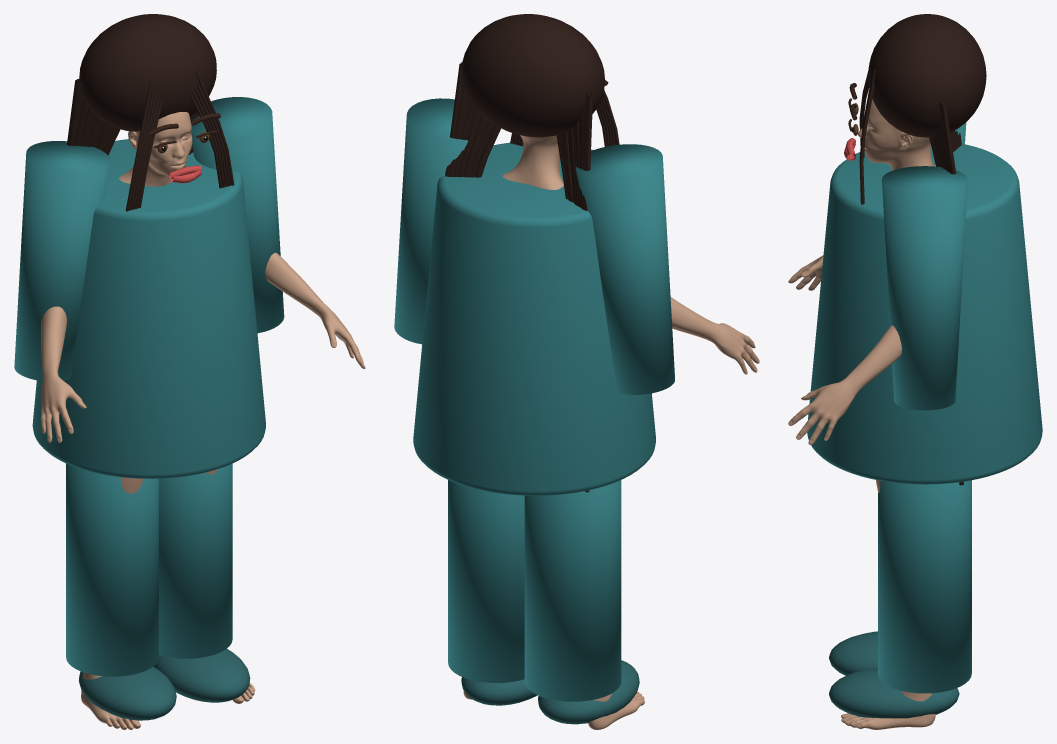
The model's file is person.glb.
3 views of the same model, side by side, from view 1: azimuth 30°, elevation 25°; view 2: azimuth 150°, elevation 25°; view 3: azimuth 270°, elevation 25° (orthographic). The views are drawn at different scales.
Visible parts, largest first — view 1: Plain single color tunic, Plain straight trouser, Plain long sleeve, Plain straight trouser.001, Continuous hair volume, Photo_Based_Woman, Plain long sleeve.001, Plain flat shoe, Plain flat shoe.001, Face framing hair.004; view 2: Plain single color tunic, Plain straight trouser, Plain long sleeve, Plain straight trouser.001, Continuous hair volume, Plain long sleeve.001, Photo_Based_Woman, Plain flat shoe, Plain flat shoe.001; view 3: Plain single color tunic, Plain straight trouser.001, Plain long sleeve.001, Continuous hair volume, Photo_Based_Woman, Plain flat shoe.001, Plain flat shoe, Face framing hair.009.
Boxes of the visible parts, x1,y1,x2,y2 form: Plain single color tunic: (32, 139, 265, 478); Plain straight trouser: (66, 463, 158, 676); Plain long sleeve: (14, 141, 110, 381); Plain straight trouser.001: (159, 463, 232, 658); Continuous hair volume: (79, 14, 216, 131); Photo_Based_Woman: (40, 112, 365, 729); Plain long sleeve.001: (191, 97, 284, 333); Plain flat shoe: (79, 666, 176, 720); Plain flat shoe.001: (153, 649, 250, 702); Face framing hair.004: (125, 80, 153, 211); Plain single color tunic: (413, 142, 655, 495); Plain straight trouser: (524, 480, 621, 701); Plain long sleeve: (575, 144, 674, 394); Plain straight trouser.001: (448, 480, 524, 682); Continuous hair volume: (462, 14, 604, 137); Plain long sleeve.001: (394, 98, 488, 344); Photo_Based_Woman: (463, 135, 759, 729); Plain flat shoe: (538, 660, 639, 724); Plain flat shoe.001: (461, 677, 537, 705); Plain single color tunic: (807, 144, 1042, 484); Plain straight trouser.001: (878, 480, 971, 693); Plain long sleeve.001: (882, 166, 967, 410); Continuous hair volume: (868, 14, 986, 137); Photo_Based_Woman: (788, 99, 935, 729); Plain flat shoe.001: (829, 667, 959, 718); Plain flat shoe: (829, 631, 877, 675); Face framing hair.009: (859, 69, 875, 204).
Size of the model in its own units: 0.8988 by 1.82 by 0.6226.
